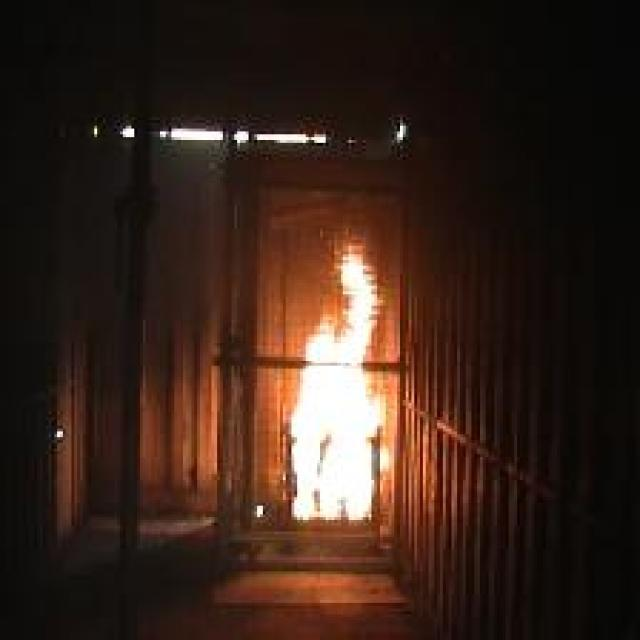Fire: (292, 247, 388, 522)
